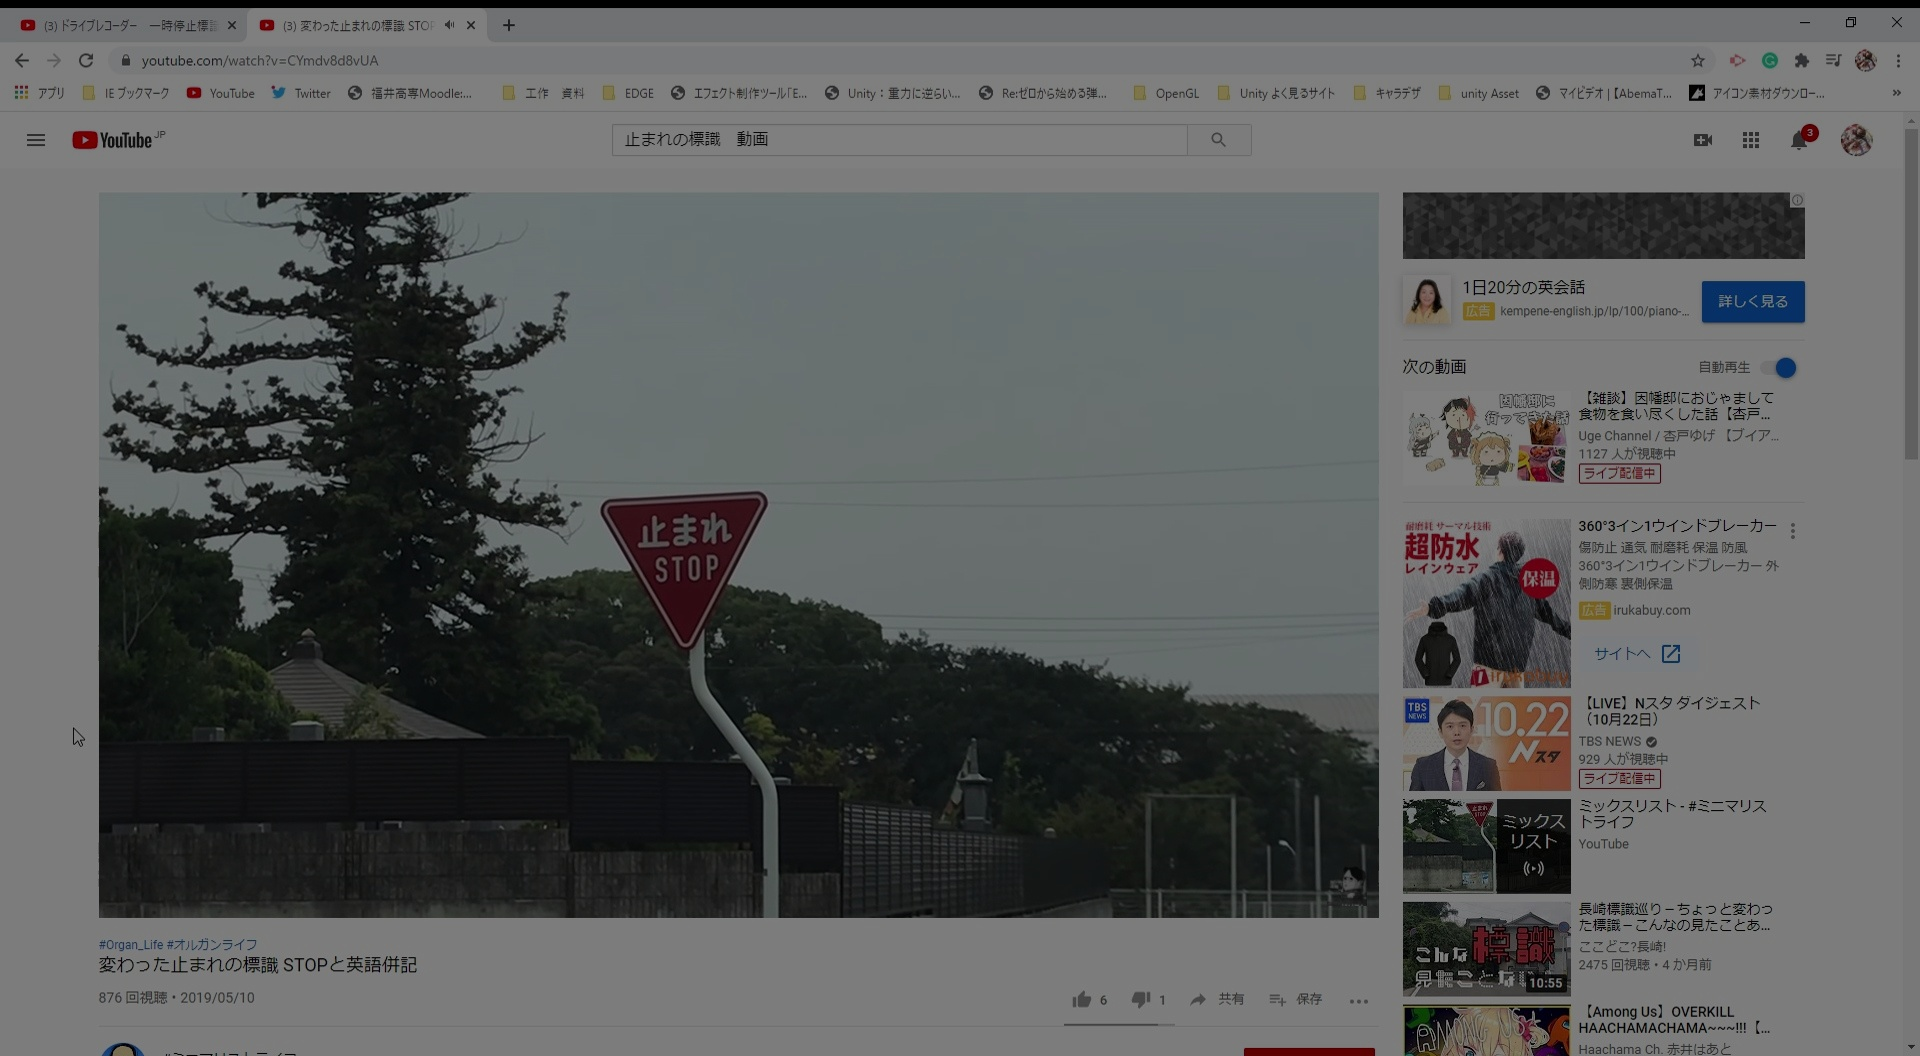Regulatory_sign_triangle: (573, 475, 783, 648)
